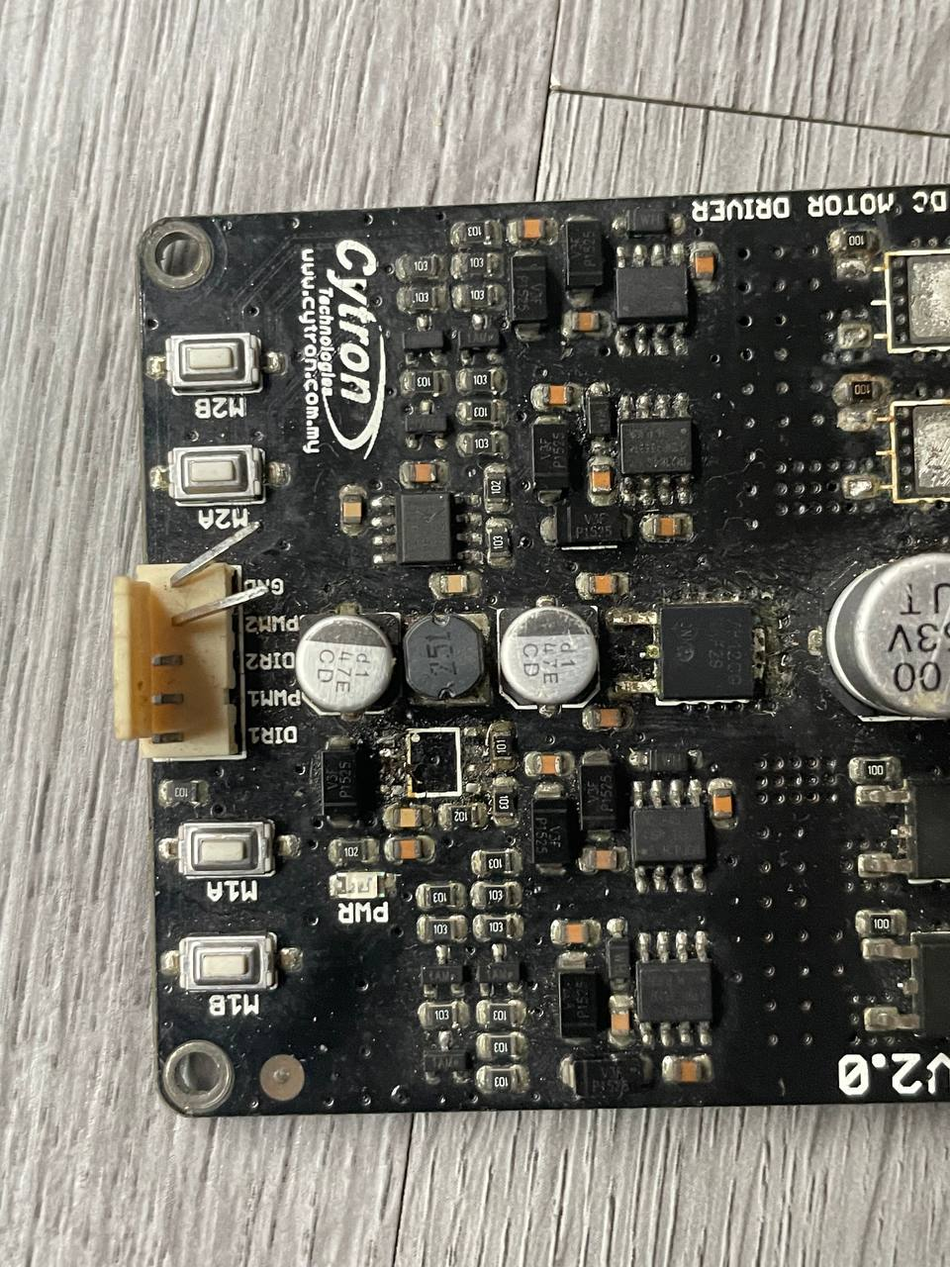bent_pin: (157, 519, 264, 593), (162, 584, 269, 633)
missing_comp: (869, 247, 950, 356), (875, 397, 950, 508), (398, 722, 467, 806)
